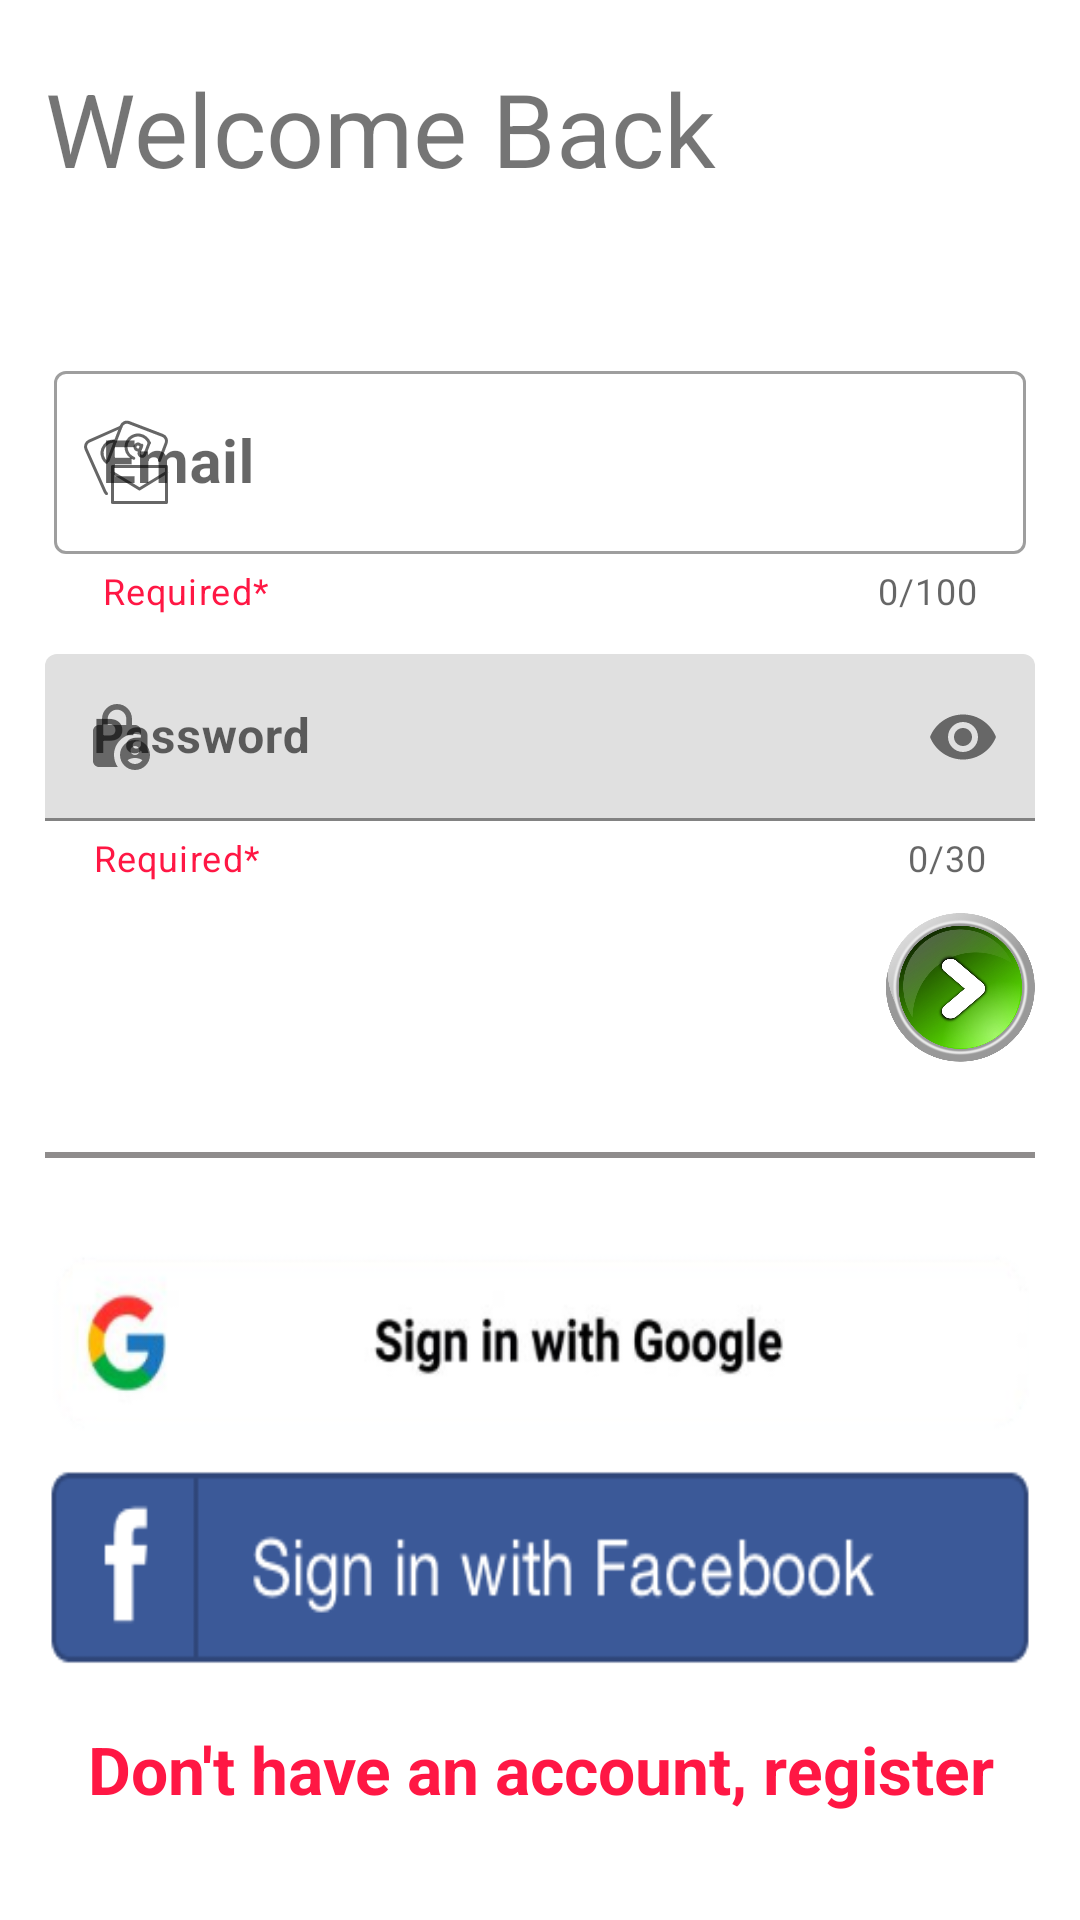

Screen size 1080 × 1920. Icon name, then its box in pixels as [x1=x1, y1=y1, x2=x2, y2=y2]:
Login to the system: [x1=886, y1=913, x2=1035, y2=1062]
